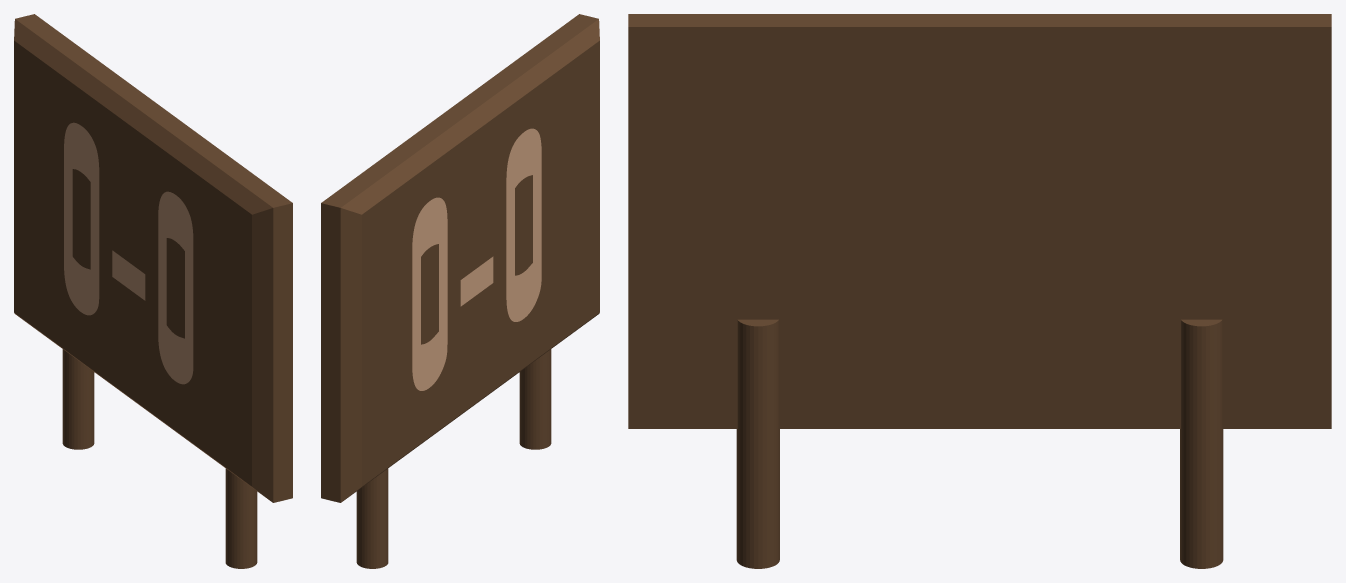
The picture shows the model from 3 angles, left to right: view 1: azimuth 30°, elevation 25°; view 2: azimuth 150°, elevation 25°; view 3: azimuth 270°, elevation 25°; orthographic projection. The views are drawn at different scales.
Visible parts, largest first — view 1: Cube.007, Text, Cylinder, Cylinder.001; view 2: Cube.007, Text, Cylinder.001, Cylinder; view 3: Cube.007, Cylinder, Cylinder.001.
Boxes of the visible parts, <box> form: Cube.007: <box>14,14,292,502</box>; Text: <box>64,122,193,384</box>; Cylinder: <box>62,349,94,449</box>; Cylinder.001: <box>225,468,257,568</box>; Cube.007: <box>321,14,599,502</box>; Text: <box>412,128,541,390</box>; Cylinder.001: <box>519,349,551,449</box>; Cylinder: <box>356,468,388,568</box>; Cube.007: <box>628,14,1331,428</box>; Cylinder: <box>1180,319,1223,568</box>; Cylinder.001: <box>736,319,779,568</box>.
Bounding box in the file's own units: 28.97 × 266 × 317.
